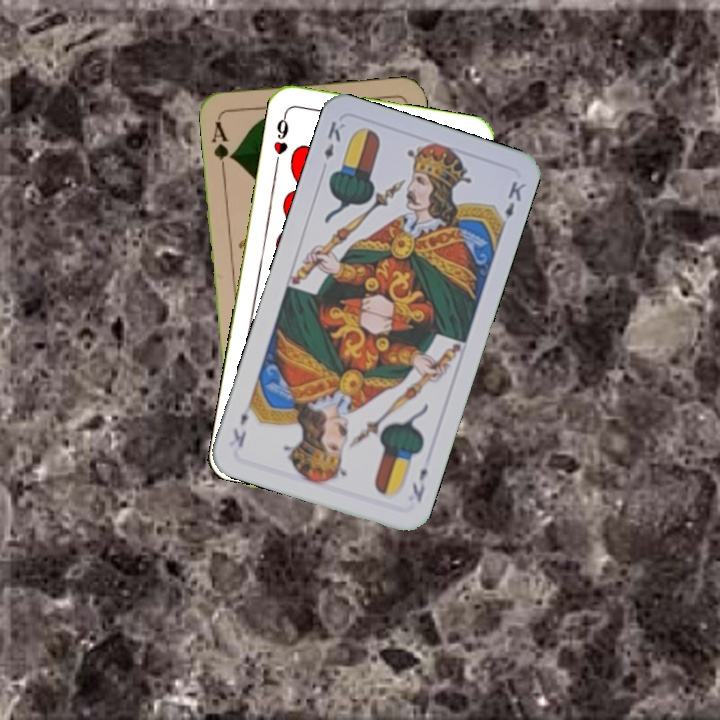EK: (320, 117, 348, 162), (408, 464, 430, 505)
GA: (208, 115, 236, 174)
H9: (269, 109, 291, 168)
